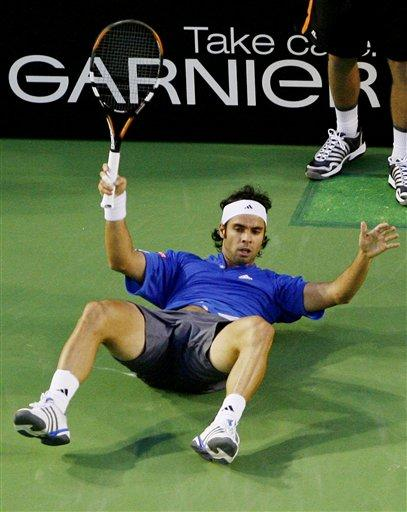fall: (9, 110, 403, 468)
